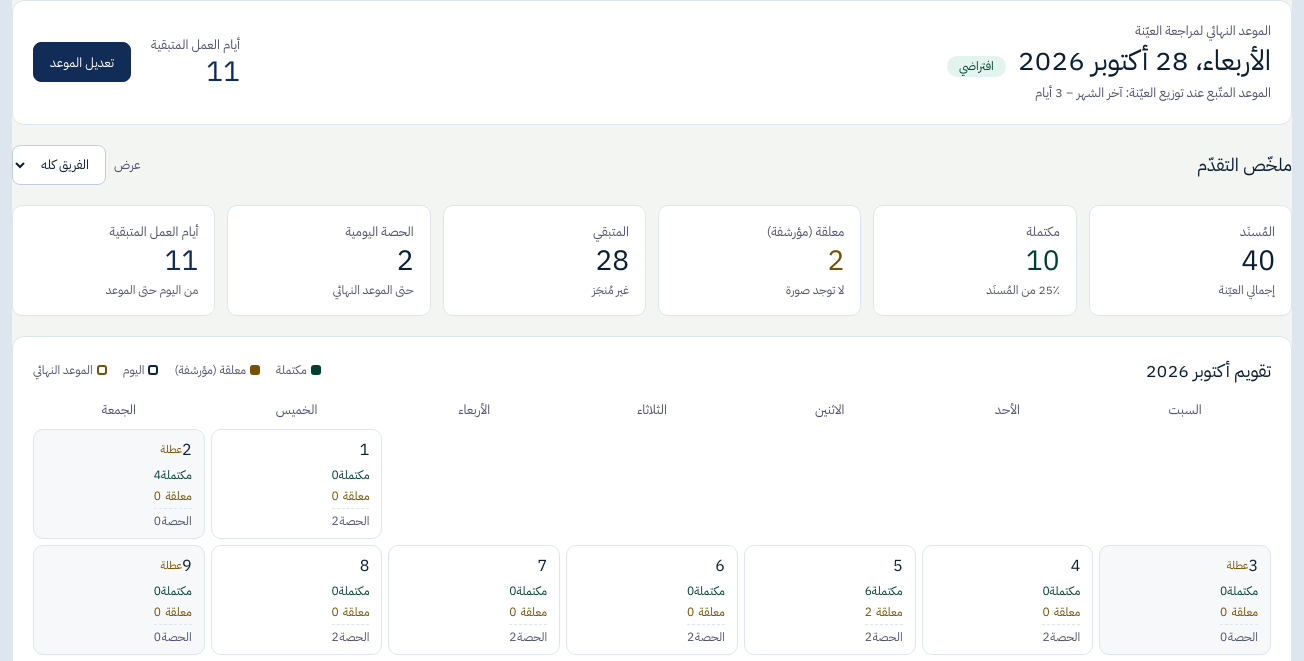
Test: ResultsTracking › clicking a day filters the summary and table to it; clicking it again shows every day
This screenshot has width=1304, height=661.
Expected: the heading "ملخّص التقدّم" is shown, [1197,151,1292,178]
Click the button with class "trk-cell" showing "5 مكتملة 6 معلقة 2 الحصة 2": (830,600) [744,545,916,655]
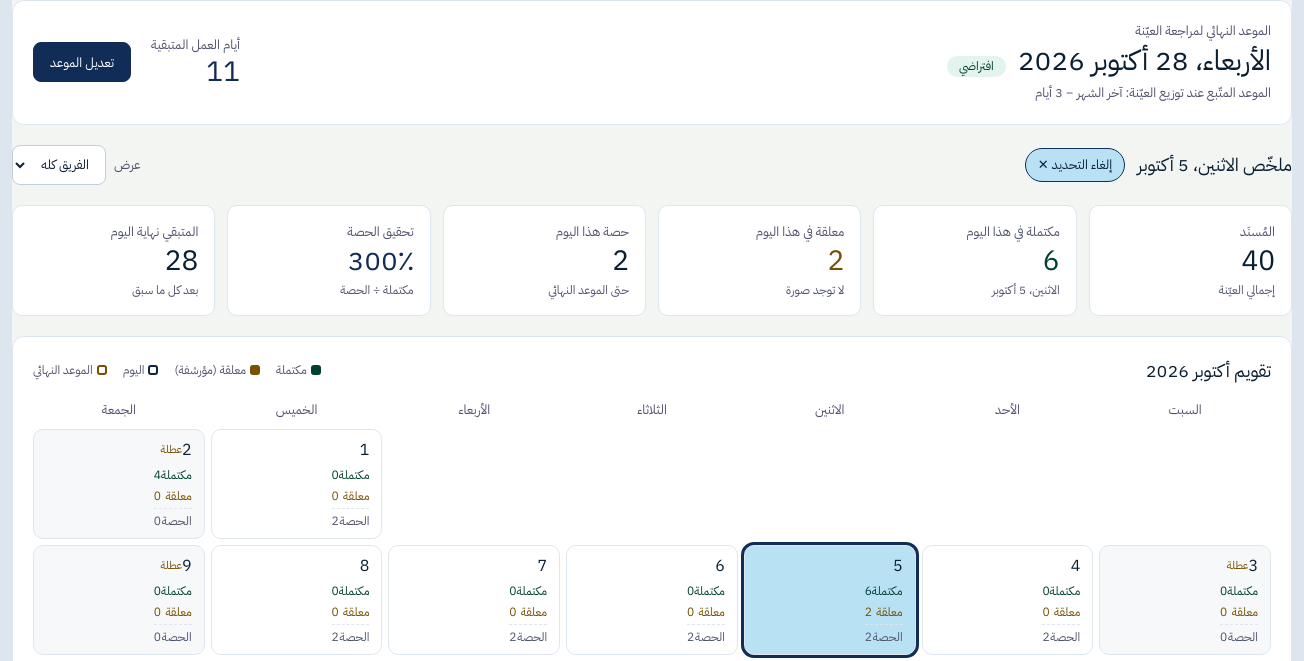
Expected: the heading "ملخّص التقدّم" is gone
Expected: the text "مكتملة في هذا اليوم" is shown, [966,222,1060,241]
Expected: the button "إلغاء التحديد ✕" is shown, [1025,148,1125,182]
Click the button with class "trk-cell" showing "5 مكتملة 6 معلقة 2 الحصة 2": (830,600) [744,545,916,655]
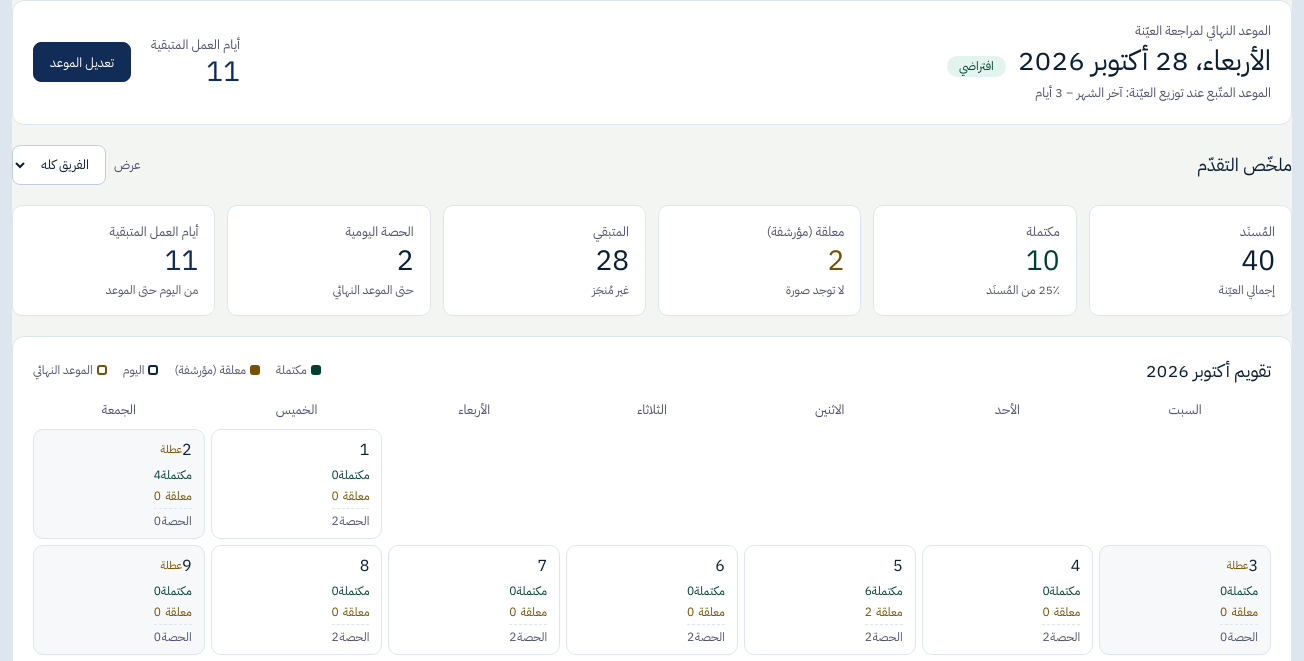
Expected: the heading "ملخّص التقدّم" is shown, [1197,151,1292,178]
